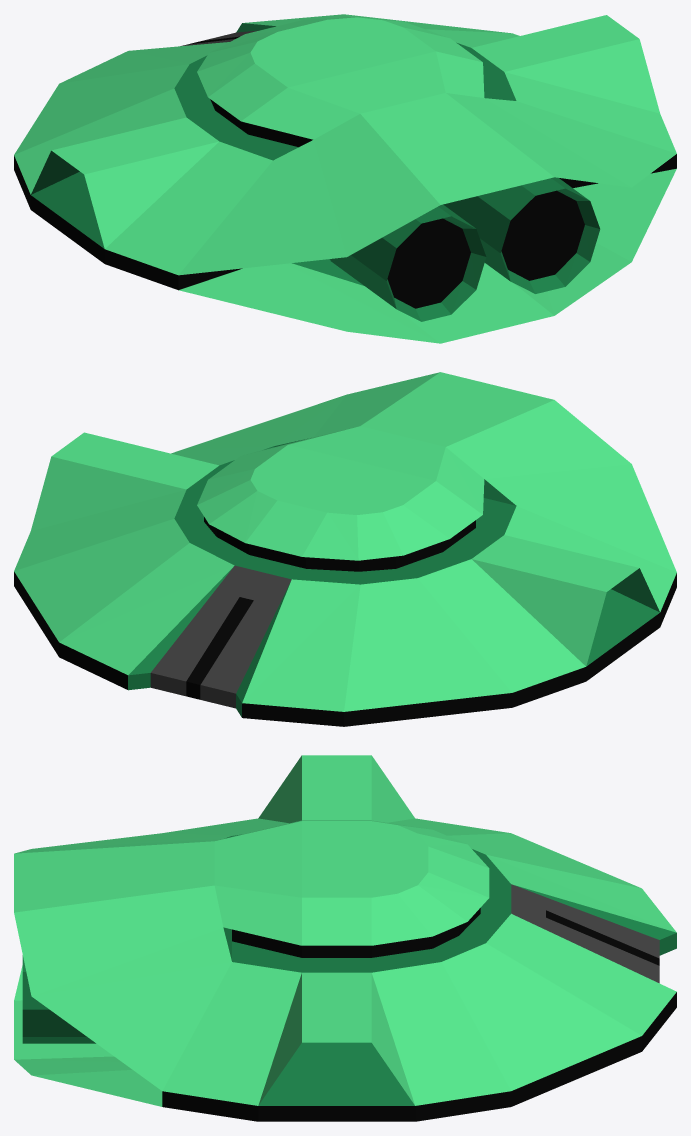
File: ufo.FBX
The picture shows the model from 3 angles, top to bottom: view 1: azimuth 30°, elevation 25°; view 2: azimuth 150°, elevation 25°; view 3: azimuth 270°, elevation 25°; orthographic projection. The views are drawn at different scales.
Parts seen in each view (by area): view 1: VIFS001, VIFS002, VIFS007, VIFS003, VIFS004; view 2: VIFS001, VIFS002, VIFS003, VIFS005, VIFS006; view 3: VIFS001, VIFS002, VIFS003, VIFS005, VIFS006.
Part boxes in pixels (x1=…): VIFS001: x1=14, y1=14, x2=676, y2=343; VIFS002: x1=31, y1=23, x2=600, y2=321; VIFS007: x1=387, y1=190, x2=584, y2=308; VIFS003: x1=14, y1=99, x2=312, y2=289; VIFS004: x1=178, y1=154, x2=676, y2=290; VIFS001: x1=14, y1=372, x2=676, y2=711; VIFS002: x1=128, y1=438, x2=659, y2=717; VIFS003: x1=14, y1=517, x2=676, y2=726; VIFS005: x1=150, y1=565, x2=291, y2=708; VIFS006: x1=186, y1=597, x2=253, y2=699; VIFS001: x1=14, y1=755, x2=676, y2=1106; VIFS002: x1=22, y1=834, x2=676, y2=1105; VIFS003: x1=162, y1=908, x2=676, y2=1121; VIFS005: x1=511, y1=884, x2=659, y2=983; VIFS006: x1=546, y1=910, x2=659, y2=965.
Bounding box in the file's own units: 1.56 × 0.432 × 1.52.
